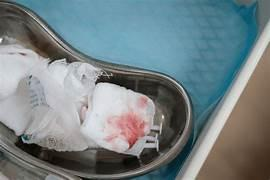cotton: (17, 0, 257, 140), (0, 44, 157, 155), (4, 78, 153, 154), (0, 44, 99, 150), (0, 62, 87, 150), (0, 43, 100, 110), (23, 61, 97, 150), (22, 72, 87, 150), (81, 83, 154, 152), (0, 39, 48, 135), (0, 44, 47, 134), (0, 60, 47, 135), (48, 59, 100, 112), (0, 44, 44, 99), (48, 59, 101, 99), (63, 62, 101, 112), (0, 81, 30, 135), (64, 62, 99, 98), (123, 134, 158, 157), (0, 43, 43, 59), (47, 59, 67, 86), (0, 36, 18, 44), (79, 105, 87, 121), (0, 171, 9, 179)
